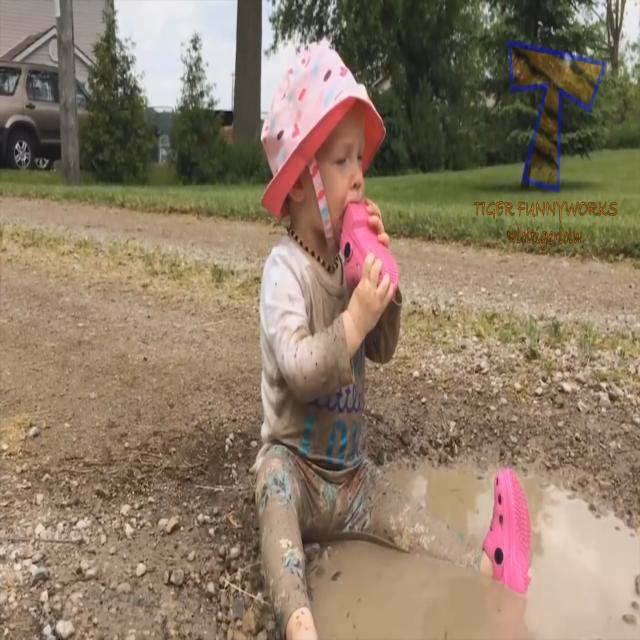safe: (254, 41, 399, 551)
